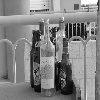beer: (38, 18, 56, 96)
